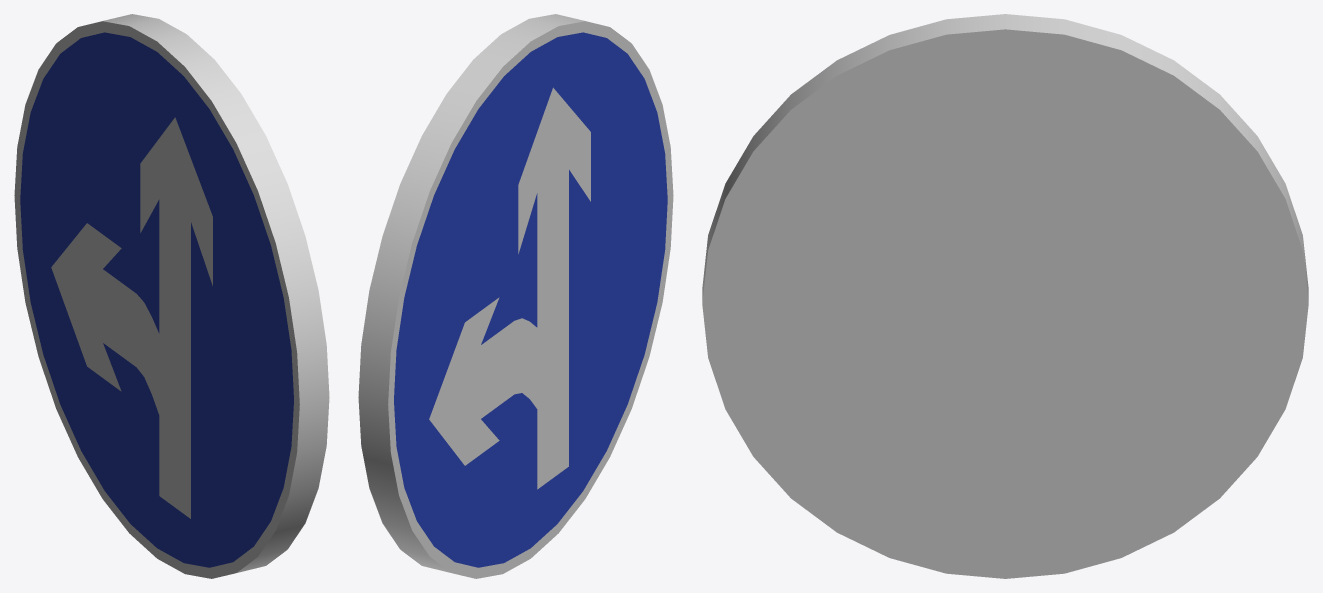
The model's file is Straight_And_Turn_Left.fbx.
3 renders of one model, left to right at view 1: azimuth 30°, elevation 25°; view 2: azimuth 150°, elevation 25°; view 3: azimuth 270°, elevation 25°, orthographic. The views are drawn at different scales.
Parts seen in each view (by area): view 1: Straight_And_Turn_Left; view 2: Straight_And_Turn_Left; view 3: Straight_And_Turn_Left.
Boxes of the visible parts, x1,y1,x2,y2 form: Straight_And_Turn_Left: [14, 14, 329, 578]; Straight_And_Turn_Left: [358, 14, 673, 578]; Straight_And_Turn_Left: [702, 14, 1308, 578].
Bounding box in the file's own units: 0.0643 × 1 × 1.
